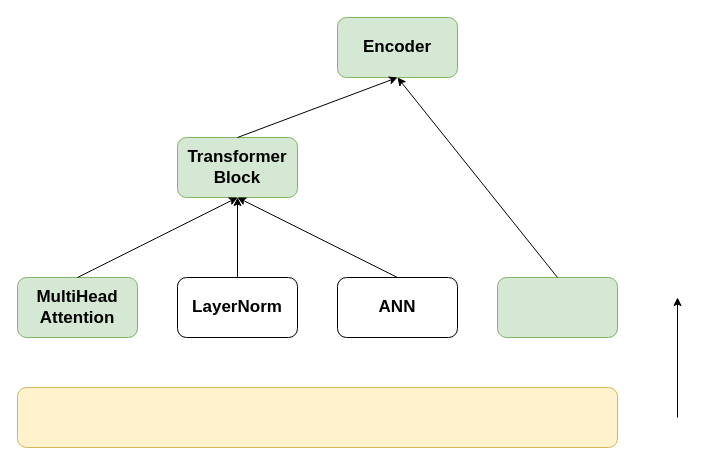
The diagram is 703 pixels wide and 465 high, and some of its shapes have lost their labels. The centre of each missing label's shape, as x and y in pixels:
Positional Encoding: pixel 557 307
Queen of Science: pixel 317 417
